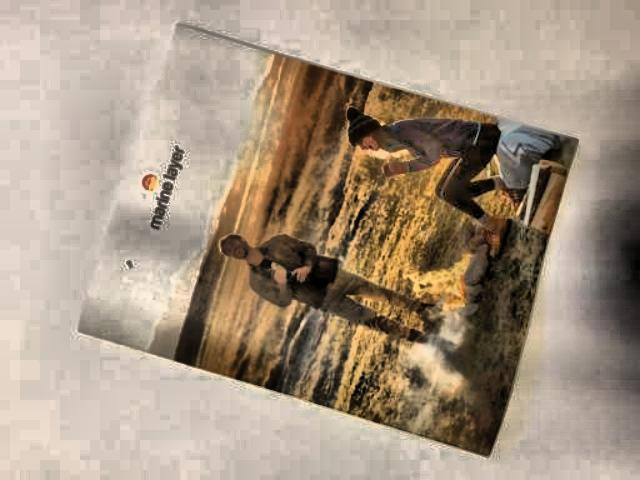Paper: (74, 18, 581, 467)
